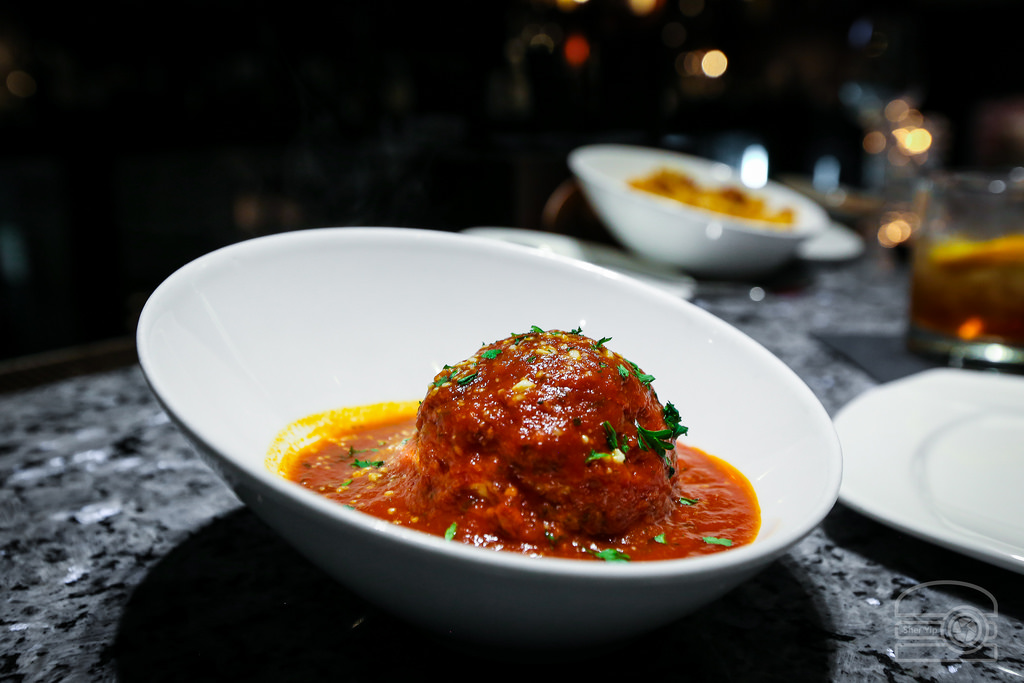meatballs: (422, 320, 675, 528)
